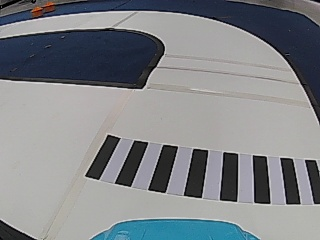CrossWalk: (84, 133, 319, 207)
